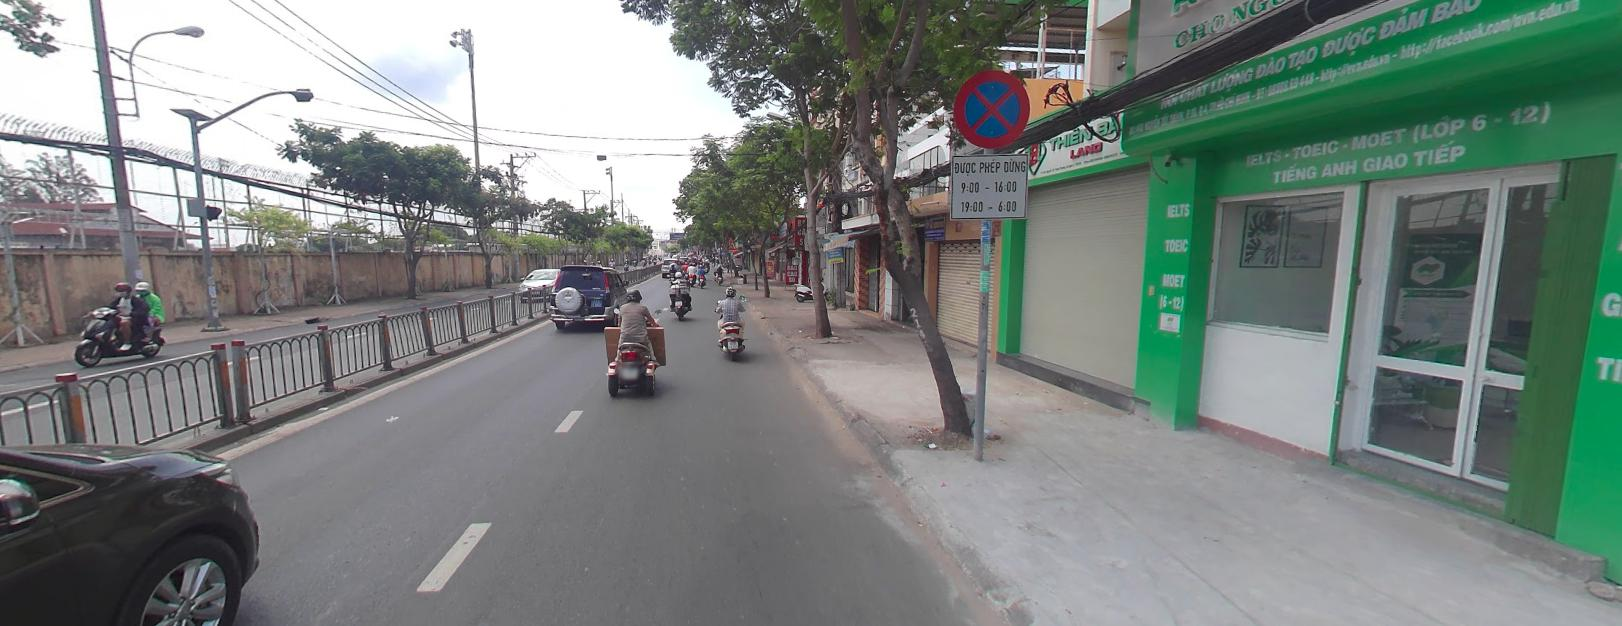Cam dung va do: (952, 67, 1031, 148)
Nguy hiem: (727, 234, 734, 240), (727, 242, 734, 247)
